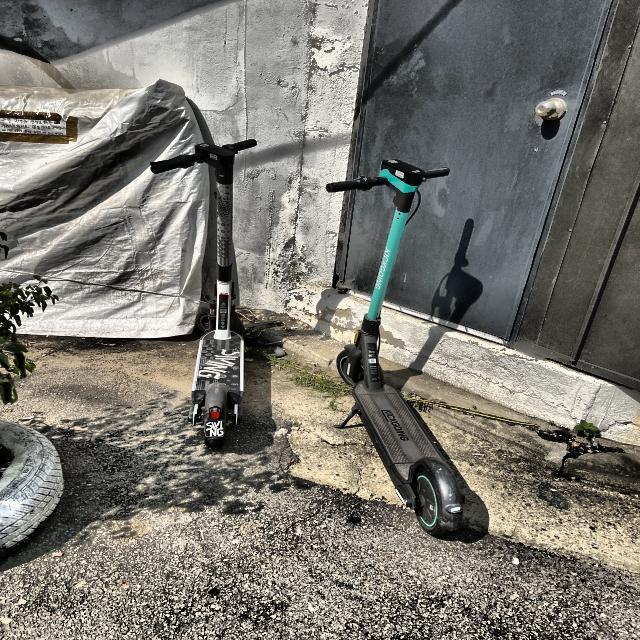bike: (324, 158, 488, 538), (149, 138, 258, 449)
